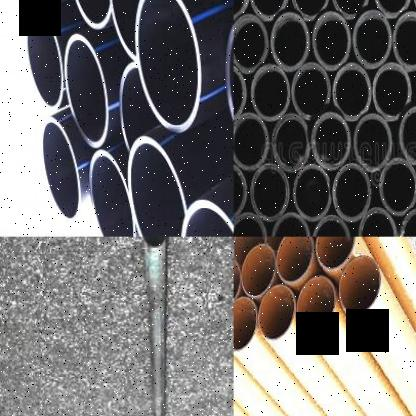pipe: (132, 0, 203, 137), (124, 135, 190, 237), (64, 34, 112, 150), (36, 115, 83, 225), (24, 7, 67, 111), (88, 148, 136, 236), (106, 0, 157, 58), (338, 256, 380, 315), (310, 112, 350, 171), (251, 63, 291, 122), (372, 62, 412, 121), (352, 10, 392, 68), (292, 164, 332, 221), (296, 276, 336, 333), (332, 164, 371, 222), (251, 163, 290, 221), (271, 13, 310, 71), (354, 114, 392, 173), (333, 62, 371, 121), (292, 62, 330, 121), (272, 115, 310, 172), (312, 12, 350, 69), (379, 158, 416, 216), (233, 14, 268, 74), (234, 113, 270, 171), (258, 285, 295, 340), (179, 200, 234, 236), (241, 243, 275, 297), (64, 0, 112, 35), (276, 236, 312, 282), (392, 11, 416, 71), (316, 236, 354, 270), (234, 296, 257, 351), (359, 207, 396, 237), (398, 106, 416, 165), (272, 212, 310, 237), (234, 212, 268, 237), (312, 215, 350, 237), (234, 237, 264, 264), (249, 0, 289, 20), (234, 162, 247, 220), (291, 0, 329, 19), (234, 63, 245, 123), (331, 0, 369, 17), (372, 0, 412, 16), (399, 209, 416, 236), (264, 237, 296, 251), (143, 237, 165, 247)
